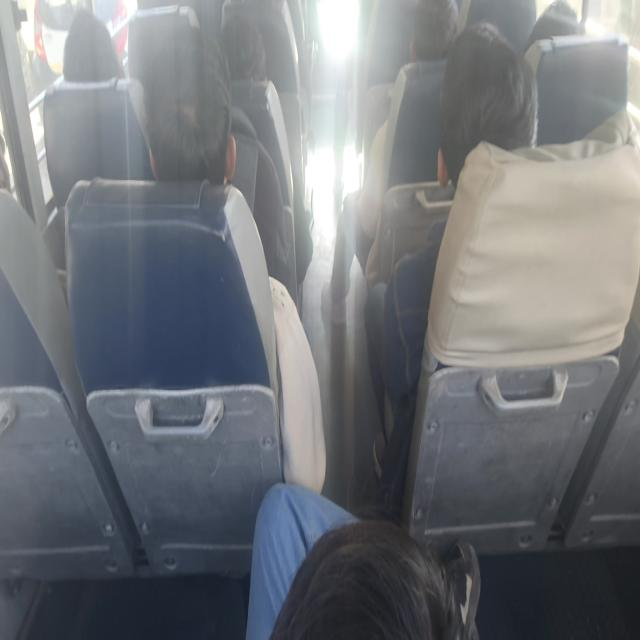person: (278, 497, 488, 640), (146, 29, 252, 215), (426, 30, 531, 186), (65, 0, 132, 78), (398, 0, 462, 59), (220, 1, 266, 78), (515, 0, 591, 41), (0, 108, 28, 190)
